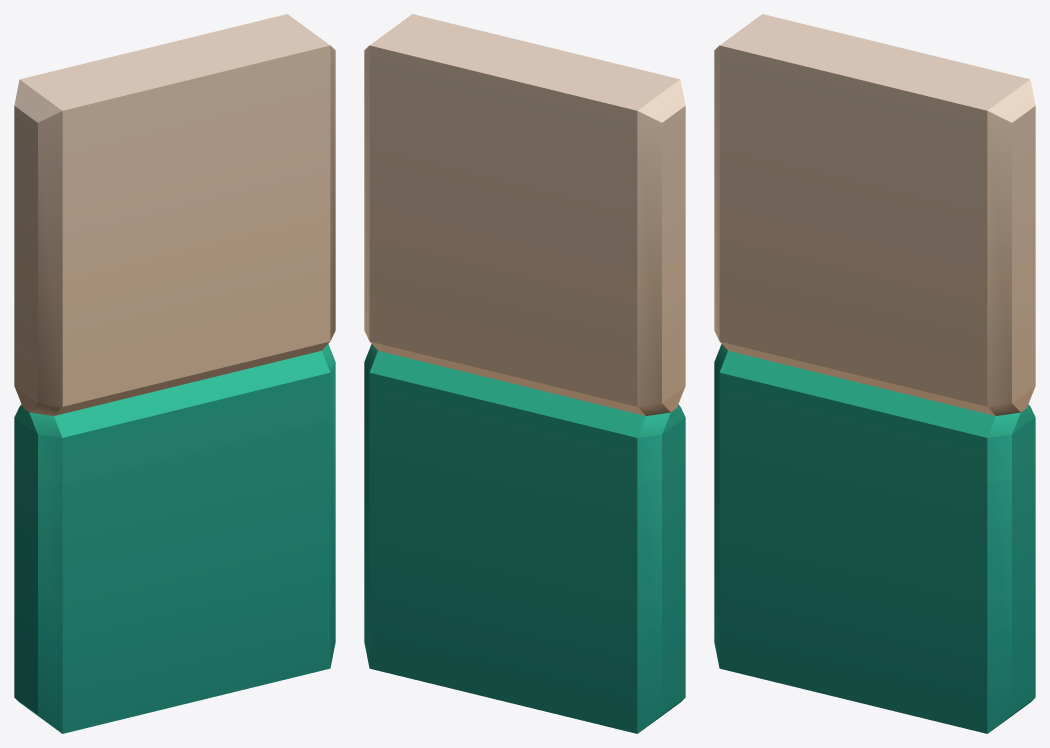
The model's file is wall_half.glb.
3 views of the same model, side by side, from view 1: azimuth 30°, elevation 25°; view 2: azimuth 150°, elevation 25°; view 3: azimuth 330°, elevation 25° (orthographic).
Visible parts, largest first — view 1: wall_half3; view 2: wall_half3; view 3: wall_half3.
Boxes of the visible parts, x1,y1,x2,y2 form: wall_half3: (14, 14, 335, 733); wall_half3: (364, 14, 685, 733); wall_half3: (714, 14, 1035, 733).
Size of the model in its own units: 2 by 4 by 0.5.
Materials: 1 (1 with a texture image).
